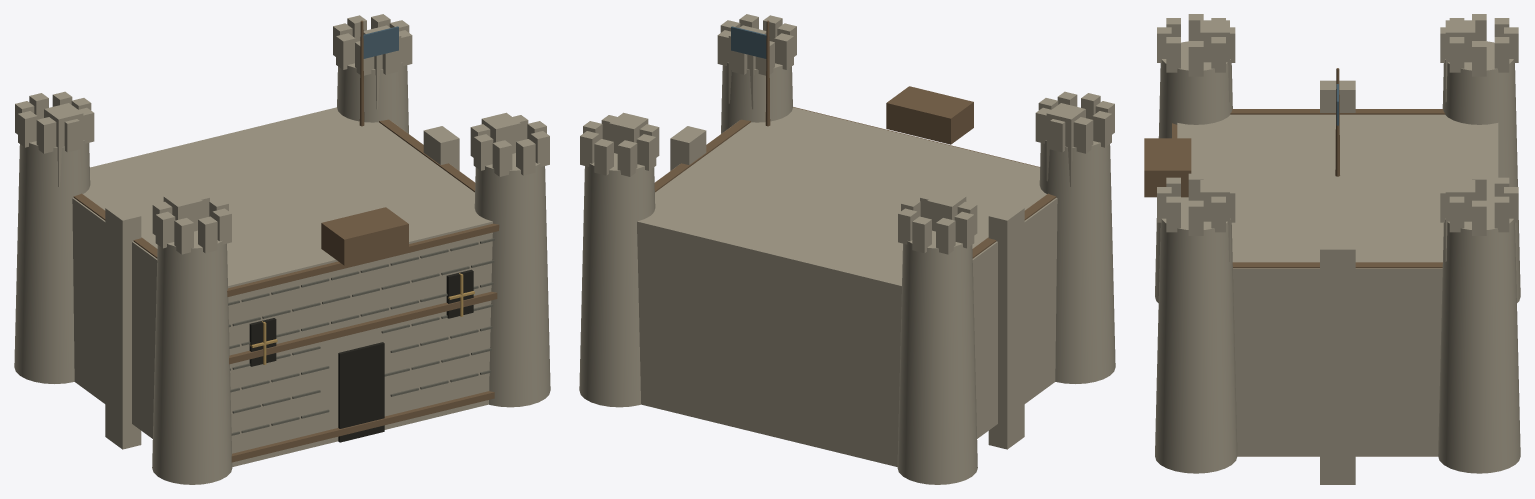
The model's file is b-keep-french.glb.
The picture shows the model from 3 angles, left to right: view 1: azimuth 30°, elevation 25°; view 2: azimuth 150°, elevation 25°; view 3: azimuth 270°, elevation 25°; orthographic projection. The views are drawn at different scales.
Parts seen in each view (by area): view 1: Structure, fortification3, fortification2; view 2: Structure, fortification3, fortification2; view 3: Structure, fortification3, fortification2.
Part boxes in pixels (x1,y1,x2,y2): Structure: (14,14,550,484); fortification3: (44,25,520,449); fortification2: (57,67,459,437); Structure: (579,14,1115,484); fortification3: (609,25,1085,449); fortification2: (670,67,1072,437); Structure: (1155,14,1520,473); fortification3: (1144,20,1475,484); fortification2: (1228,65,1447,472).
Bounding box in the file's own units: 7.8 × 6.95 × 6.38.
